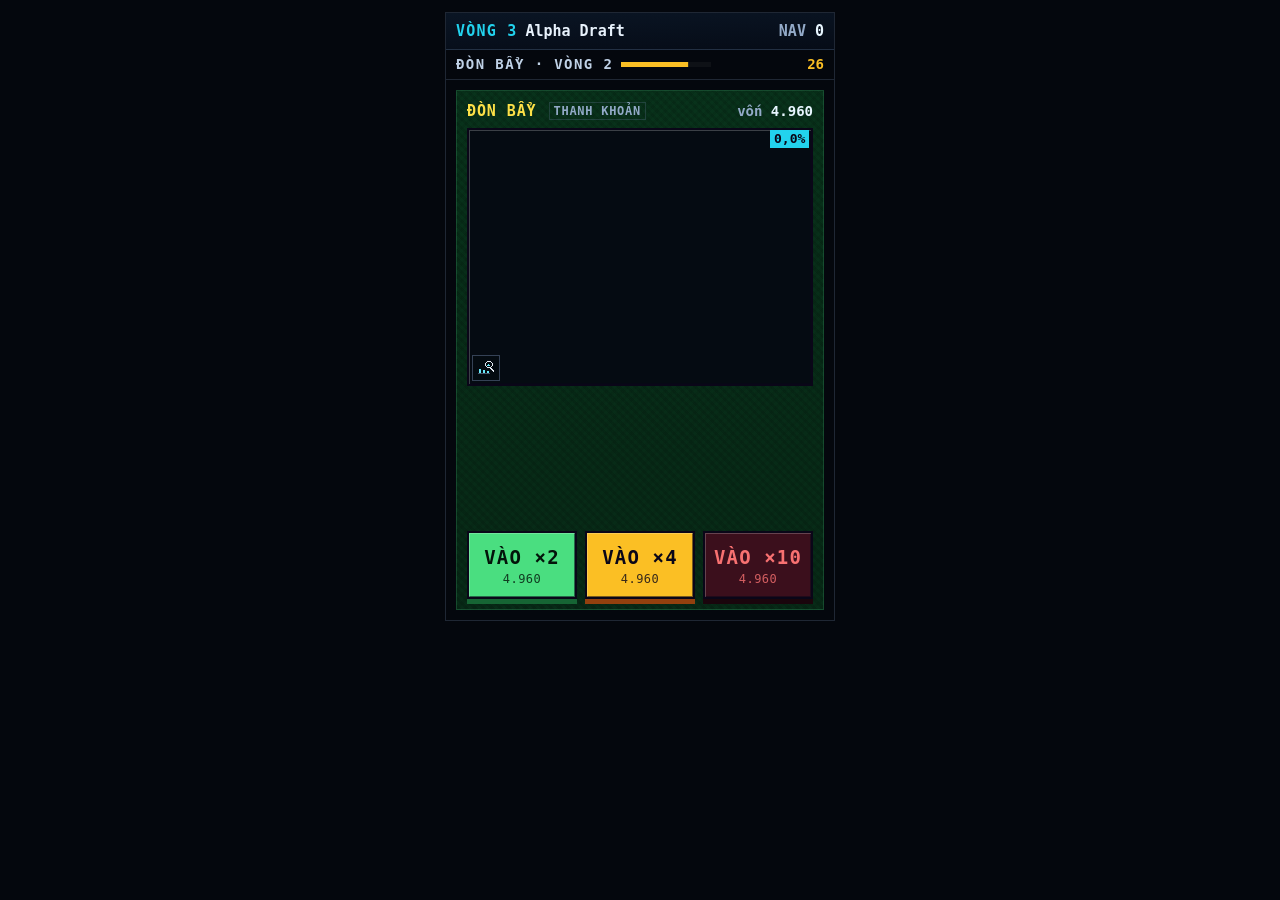
Test: §V — D492: lõi Đòn Bẩy trong màn › ⭐ D519 — hai cú bấm bay cùng lúc, câu trả lời CŨ (seq 1) về SAU câu mới (seq 2) ⇒ bỏ qua: không áp sổ cũ, không mở lại dòng thêm lần nữa
Click the button "VÀO ×2 4.960" at (522, 565), box [467,531,577,599]
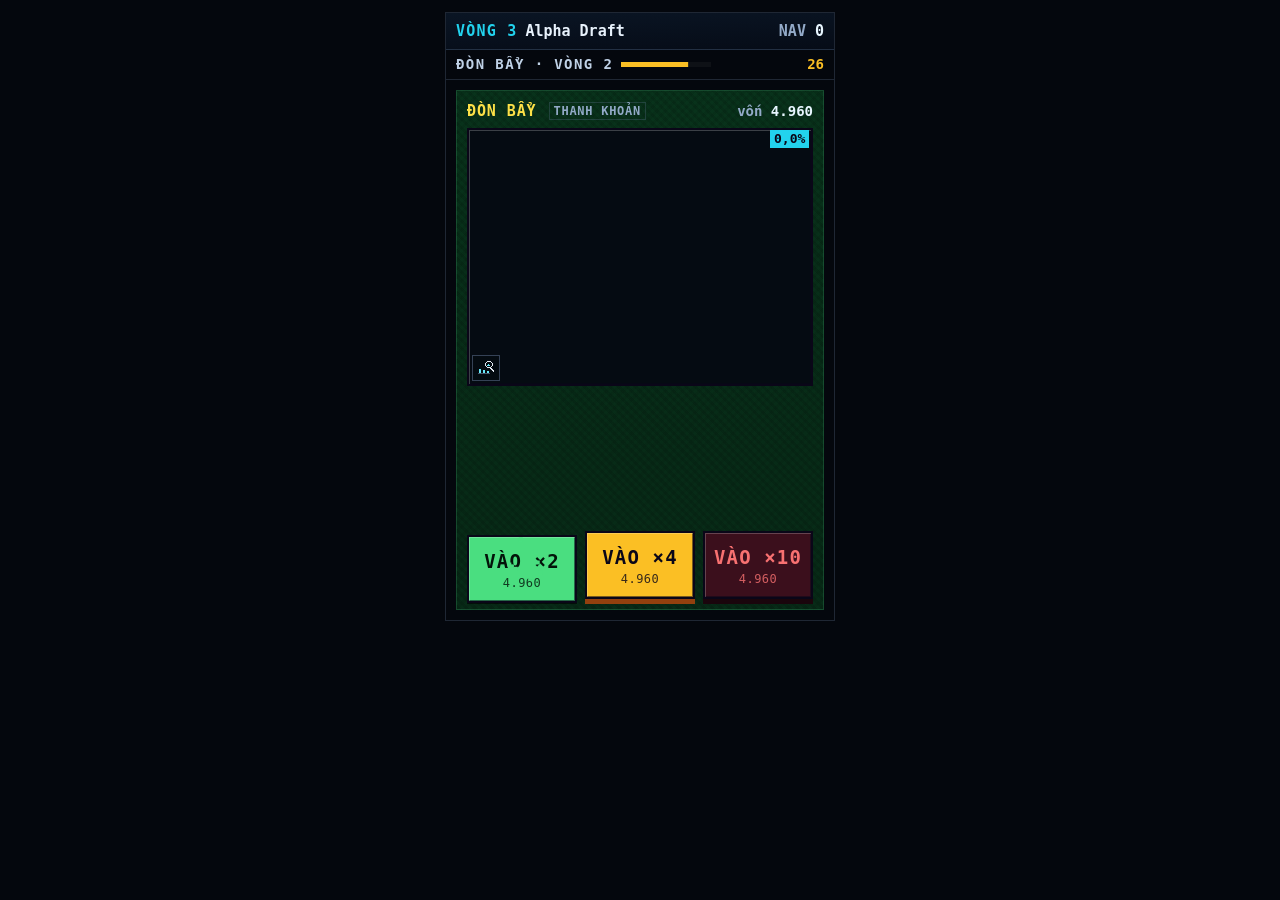
Click the button "VÀO ×4 4.960" at (640, 565), box [585,531,695,599]
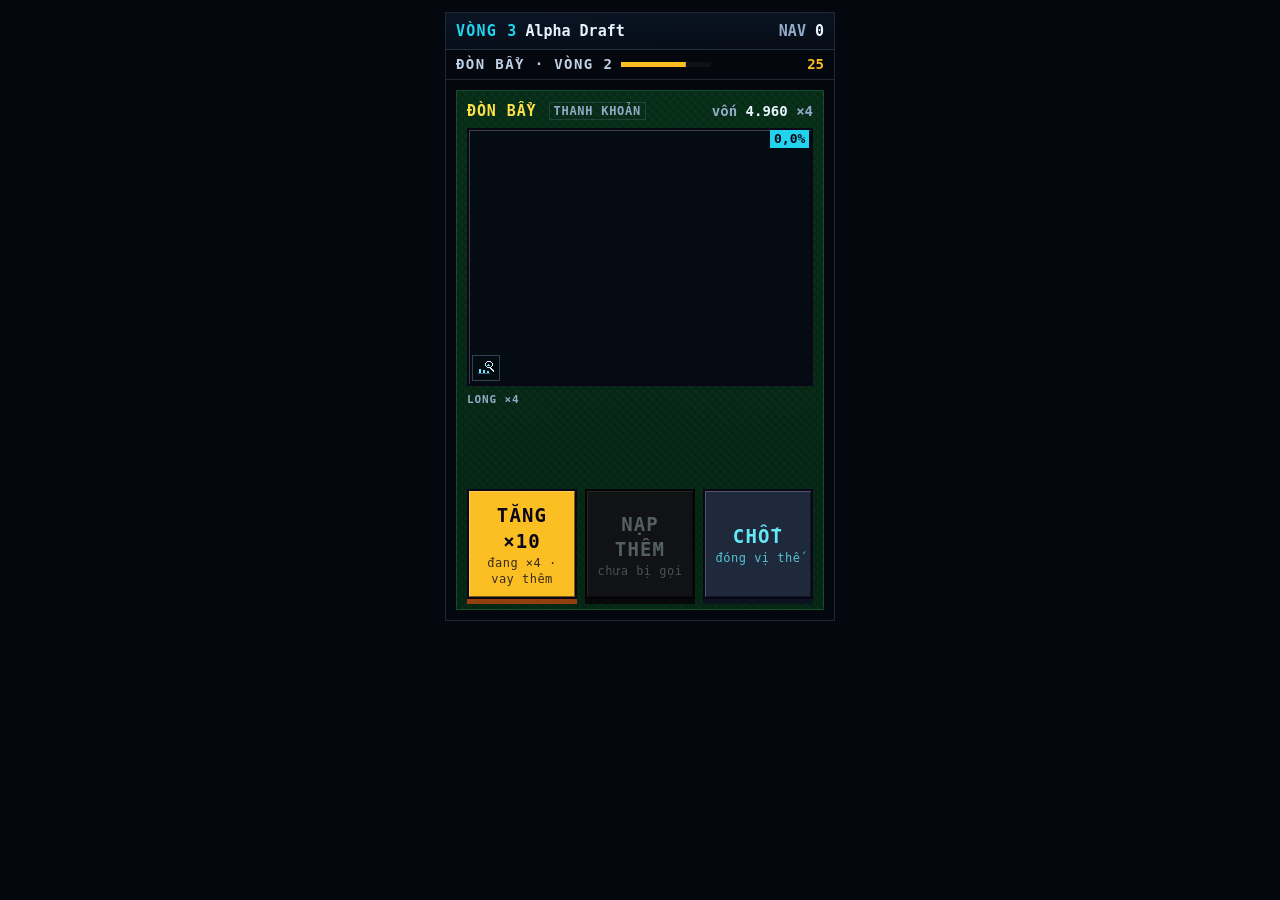
Check: the button "TĂNG ×10 đang ×4 · vay thêm" is shown, box [467,490,577,599]
